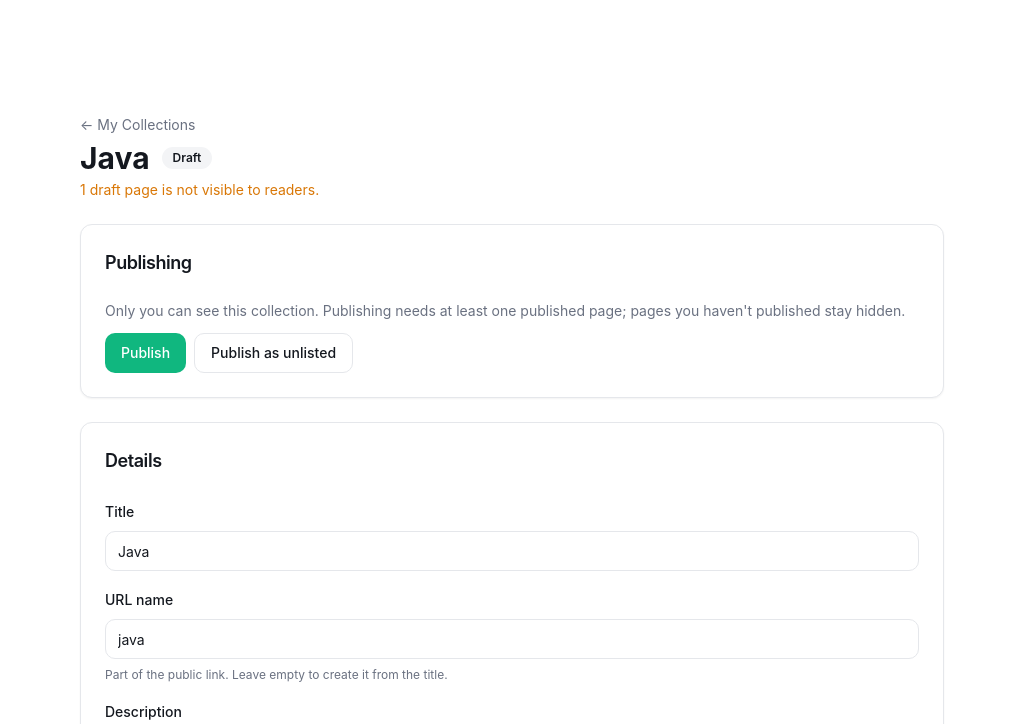
Test case: publishing a collection › publishes, and the screen reflects the new status from the refreshed data
The width and height of the screenshot is (1024, 724).
Check: the heading "Java" is shown, box [80, 140, 150, 176]
Click the button "Publish".
click(146, 353)  # box [105, 333, 186, 373]
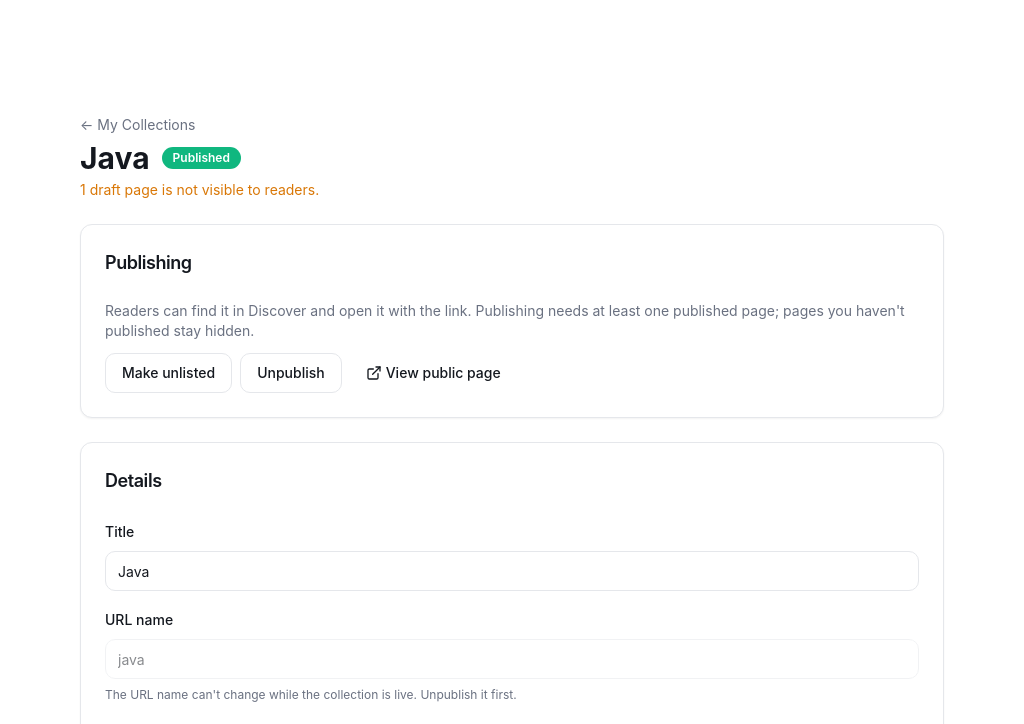
Check: the text with test id "status-badge" reads "Published", box [173, 150, 230, 165]
Check: the button "Unpublish" is shown, box [240, 353, 342, 393]
Check: the button "Make unlisted" is shown, box [105, 353, 232, 393]
